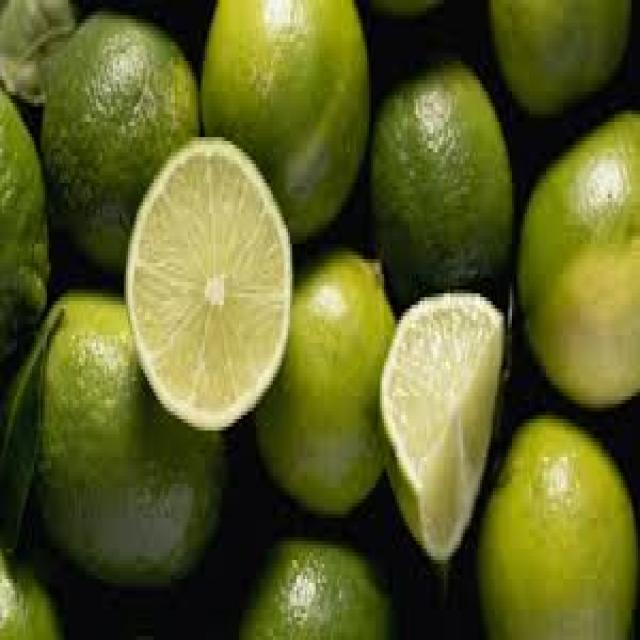jeruk: (4, 0, 640, 640), (119, 123, 308, 420)
